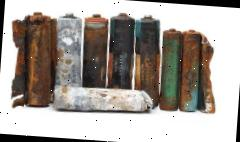electronic: (128, 12, 166, 86)
